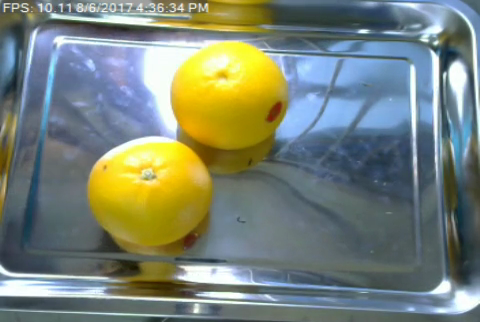Orange: (86, 136, 212, 244), (171, 40, 288, 149)
